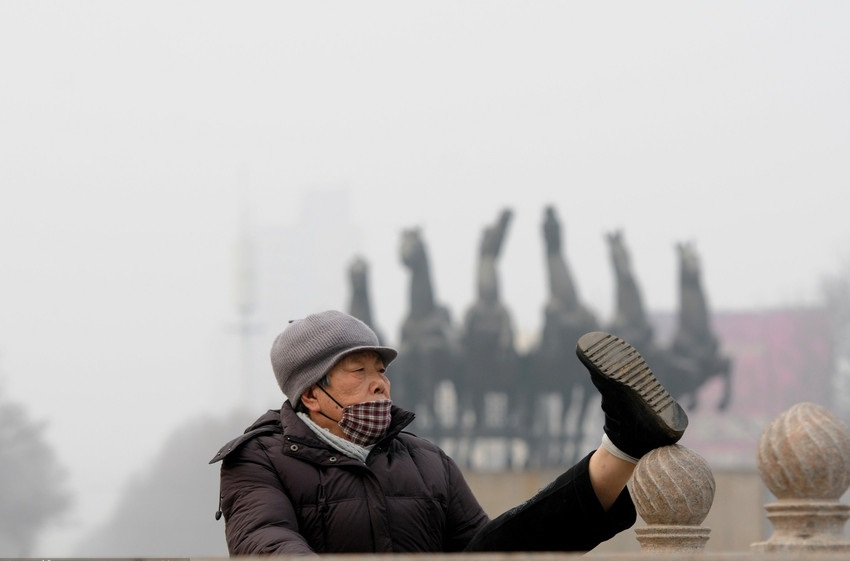face_mask: (313, 348, 391, 428)
